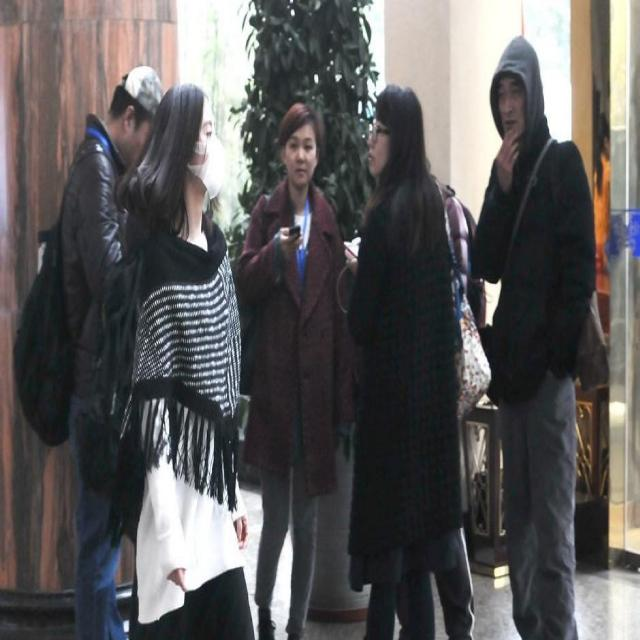mask: (188, 110, 222, 196)
nomask: (498, 76, 530, 139), (285, 126, 317, 185), (366, 111, 394, 174)
